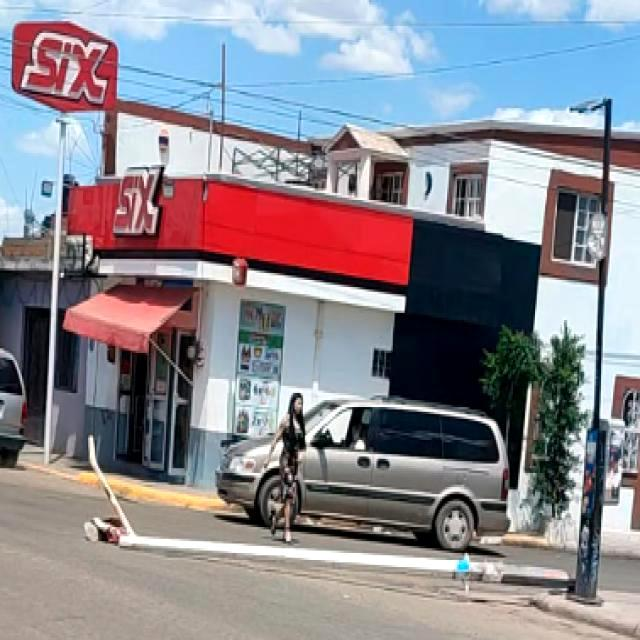Broken Pole: (84, 434, 569, 586)
